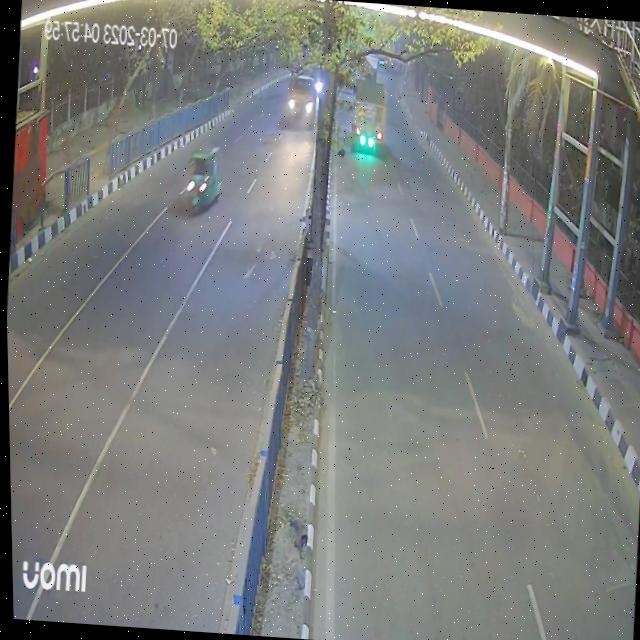cng: (181, 136, 223, 220)
